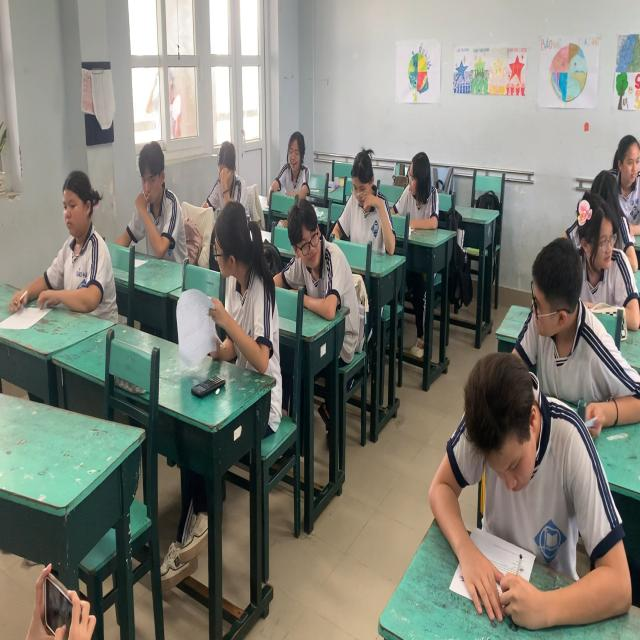cheating: (500, 181, 600, 381), (181, 138, 256, 383), (284, 172, 346, 350), (118, 124, 186, 274), (396, 142, 444, 239)
not_cheating: (414, 300, 598, 596), (21, 158, 117, 330), (532, 120, 622, 276), (580, 69, 640, 192), (341, 133, 392, 261), (276, 112, 328, 215), (198, 115, 243, 215)
